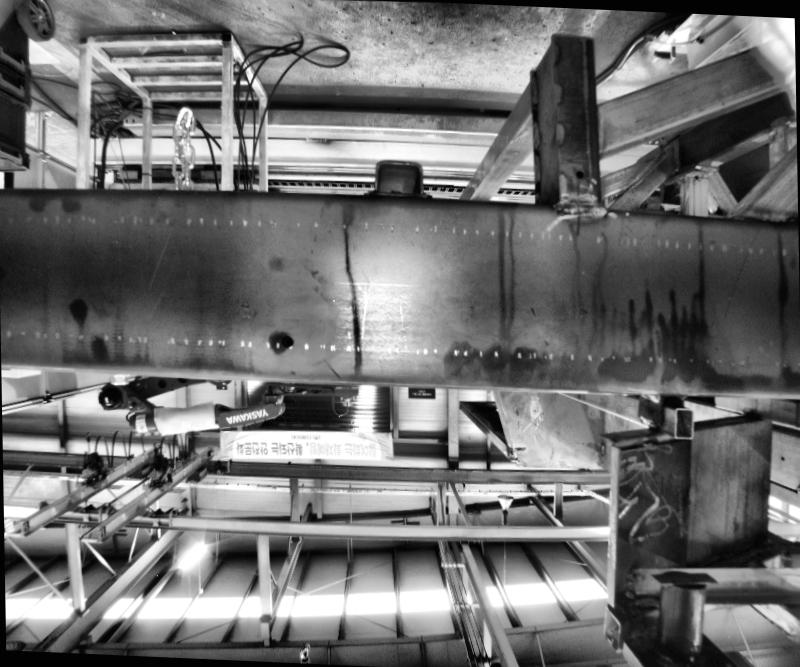bracket: (361, 153, 432, 199)
hole: (282, 334, 292, 345), (572, 167, 582, 176)
welding: (554, 199, 602, 214)
